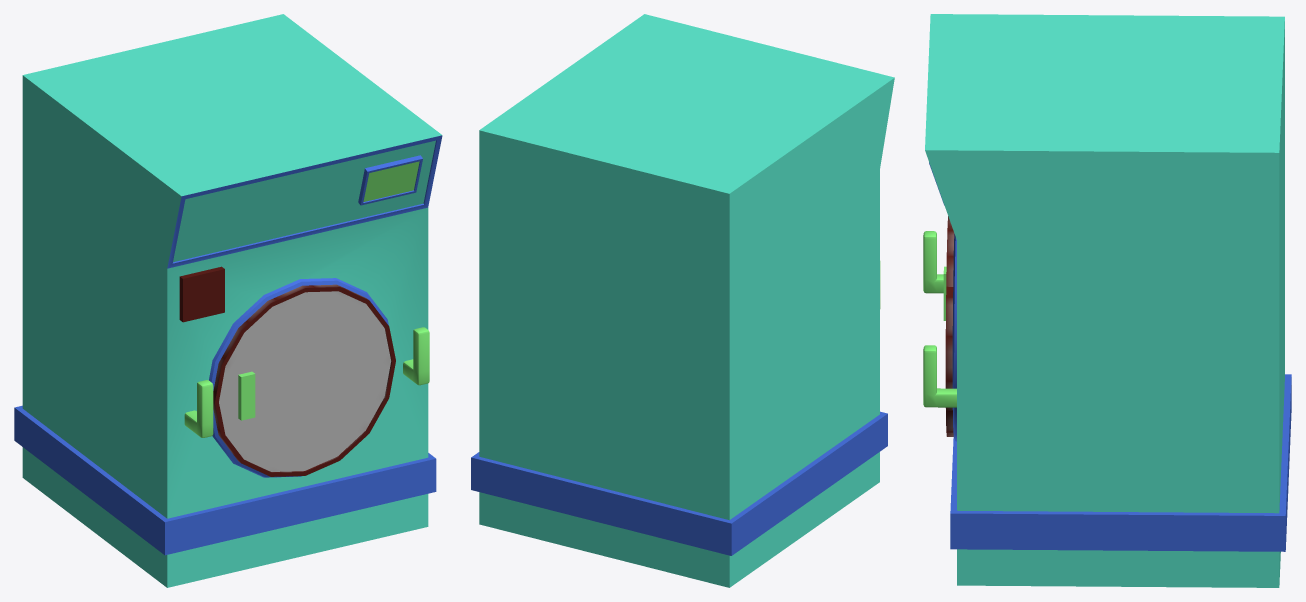
Rendered from wahing_machine_03.fbx.
3 renders of one model, left to right at view 1: azimuth 30°, elevation 25°; view 2: azimuth 150°, elevation 25°; view 3: azimuth 270°, elevation 25°, orthographic. The views are drawn at different scales.
Visible parts, largest first — view 1: wahing_machine_03, wahing_machine_lid_03; view 2: wahing_machine_03; view 3: wahing_machine_03, wahing_machine_lid_03.
Boxes of the visible parts, left/top/right/bottom form: wahing_machine_03: left=14, top=14, right=442, bottom=587; wahing_machine_lid_03: left=213, top=284, right=395, bottom=476; wahing_machine_03: left=471, top=14, right=894, bottom=587; wahing_machine_03: left=923, top=14, right=1291, bottom=587; wahing_machine_lid_03: left=943, top=216, right=954, bottom=436.
Size of the model in its own units: 435 by 612 by 469.
